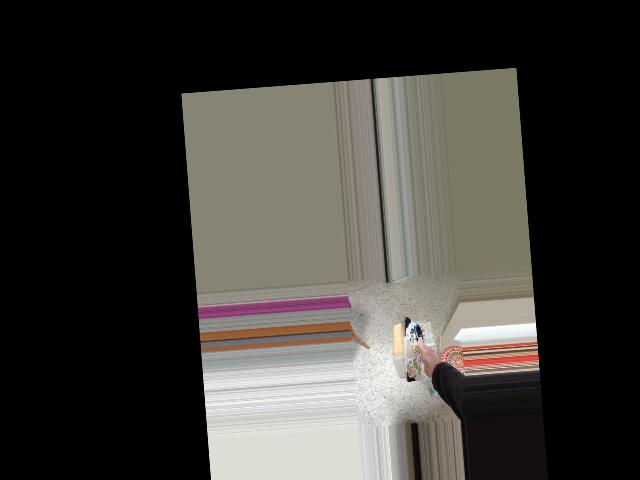cheese: (373, 312, 442, 392)
